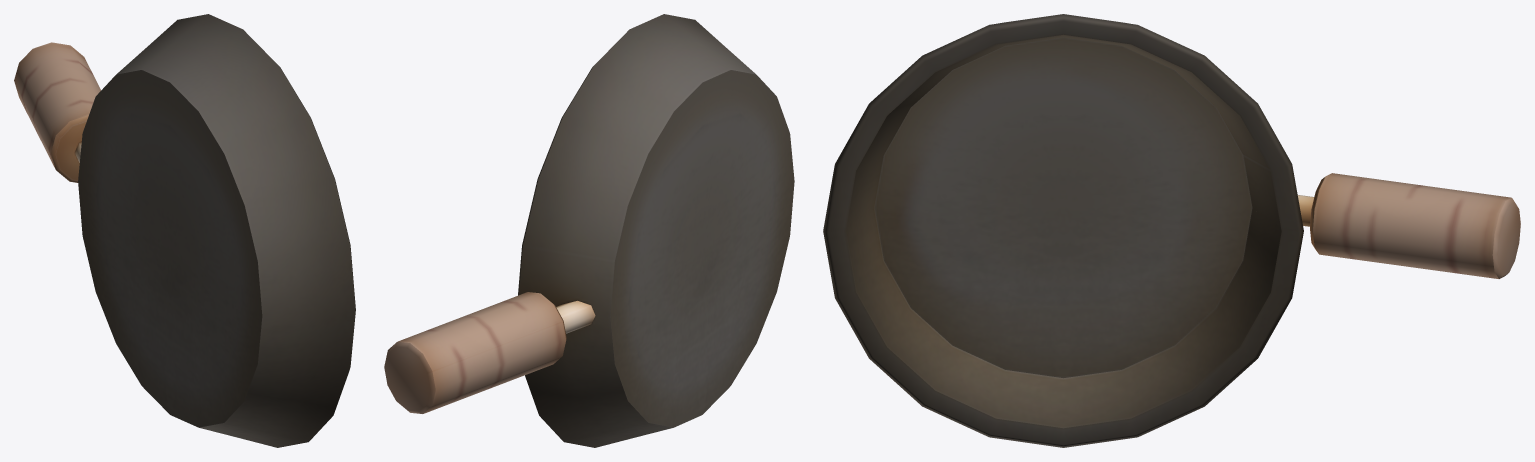
The model's file is Pan.fbx.
3 renders of one model, left to right at view 1: azimuth 30°, elevation 25°; view 2: azimuth 150°, elevation 25°; view 3: azimuth 270°, elevation 25°, orthographic. The views are drawn at different scales.
Visible parts, largest first — view 1: Pan; view 2: Pan; view 3: Pan.
Boxes of the visible parts, x1,y1,x2,y2 form: Pan: (14, 14, 355, 447); Pan: (384, 14, 794, 447); Pan: (823, 14, 1520, 447).
Size of the model in its own units: 13.48 by 43.79 by 63.84.
